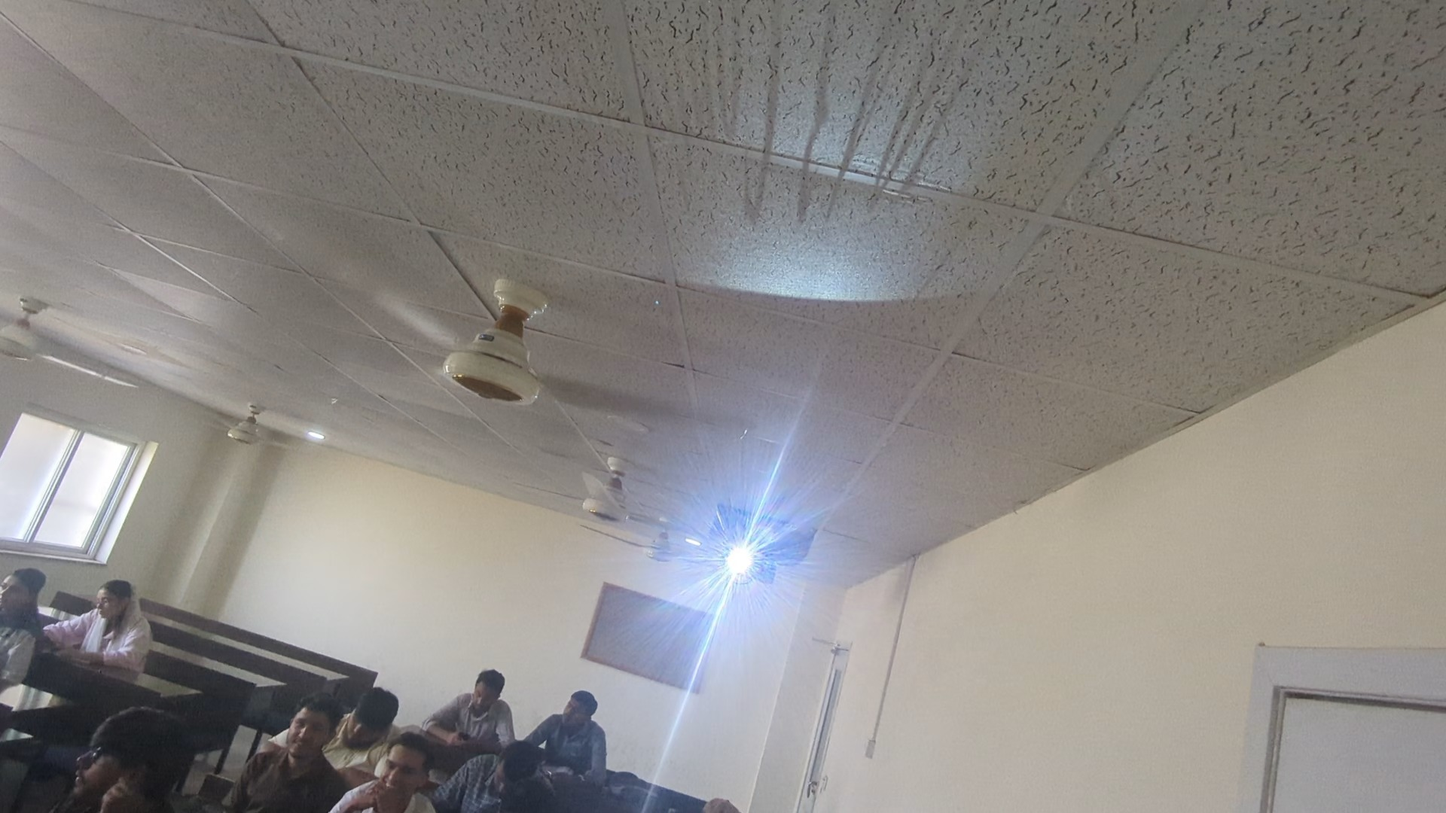look_forward: (76, 705, 197, 798), (0, 555, 69, 697), (542, 681, 625, 768), (367, 728, 446, 813), (285, 686, 336, 786)
read: (85, 547, 193, 678)
sleep: (477, 740, 542, 808), (343, 679, 389, 773)
using_device: (442, 674, 526, 751)
